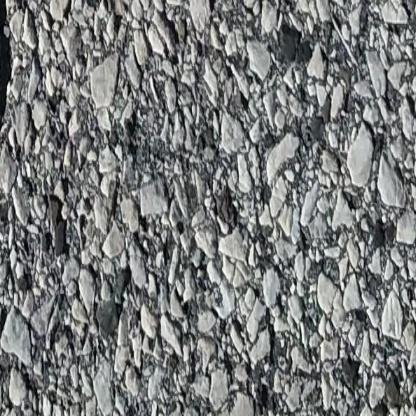Cracks: (0, 0, 22, 206)
